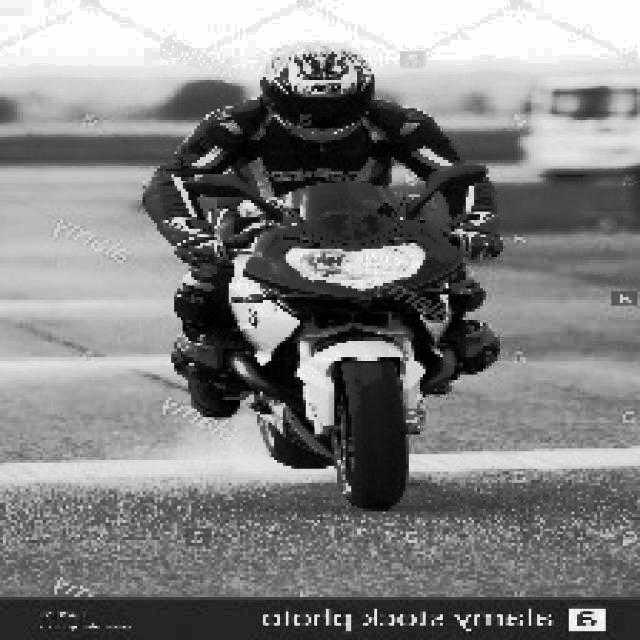Bike: (177, 169, 497, 511)
